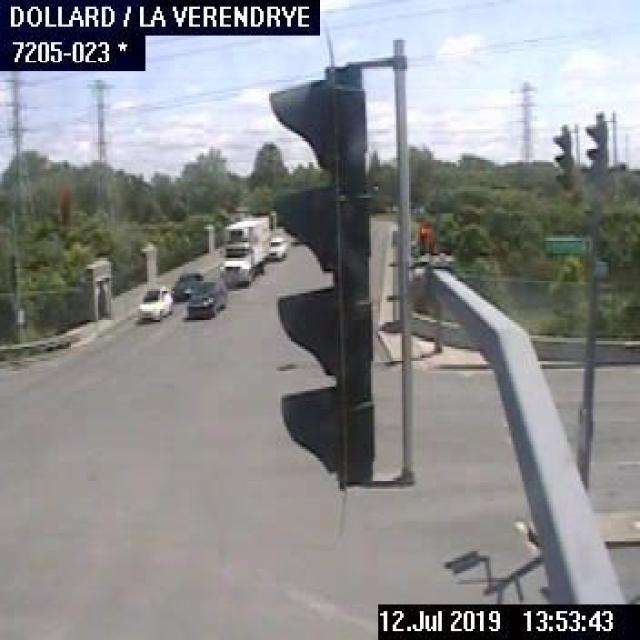vehicle: (218, 212, 270, 292), (184, 282, 226, 320), (133, 289, 173, 320), (170, 271, 203, 300), (265, 236, 290, 260)
